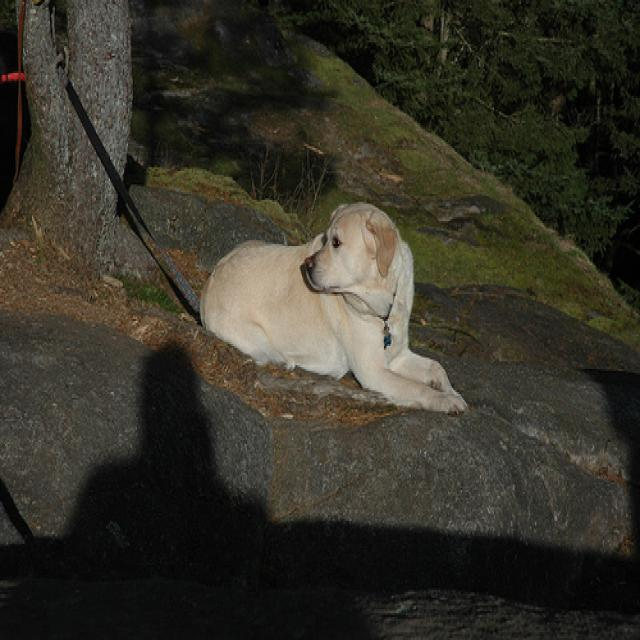dog: (194, 197, 476, 418)
